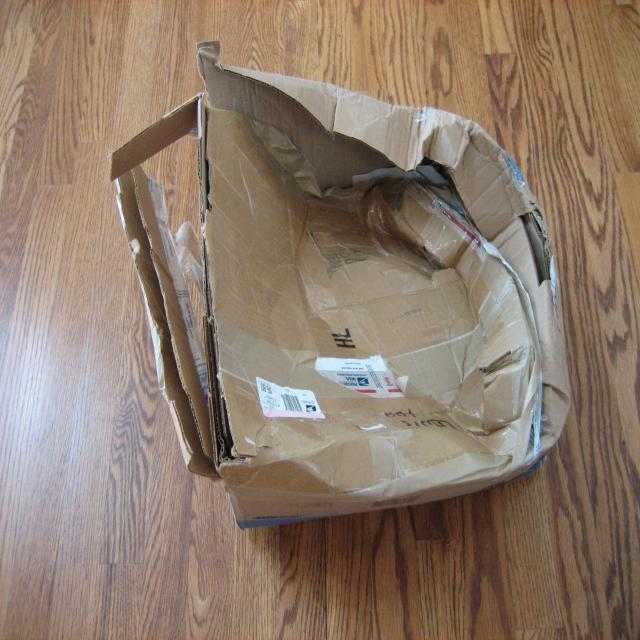damaged: (410, 138, 485, 241)
